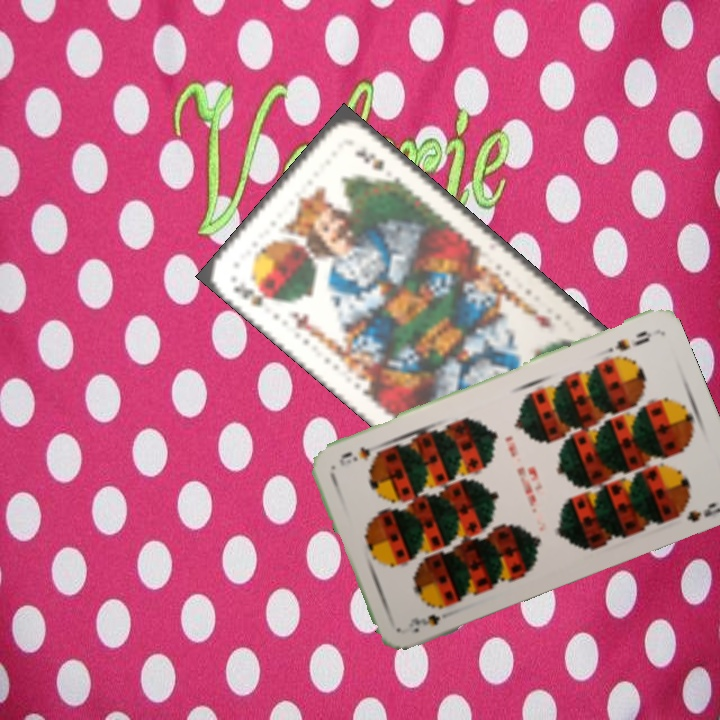S9: (611, 326, 655, 354), (404, 610, 443, 635)
SK: (229, 279, 277, 310)
